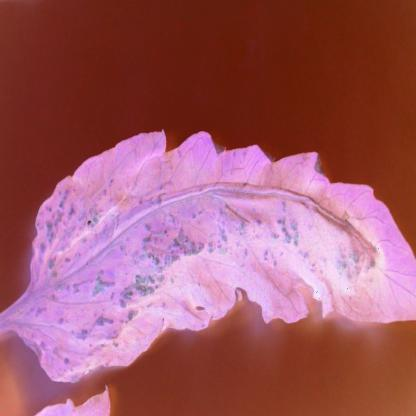Tomato mold leaf: (0, 102, 414, 392)
